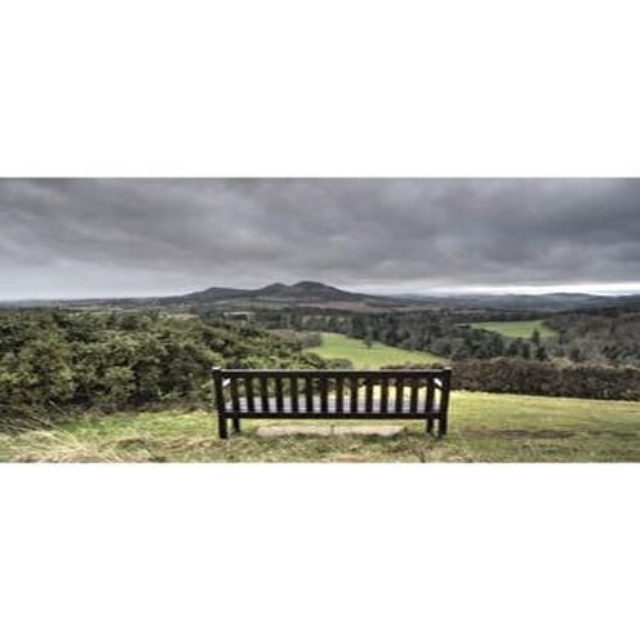obstacle: (180, 338, 472, 469)
